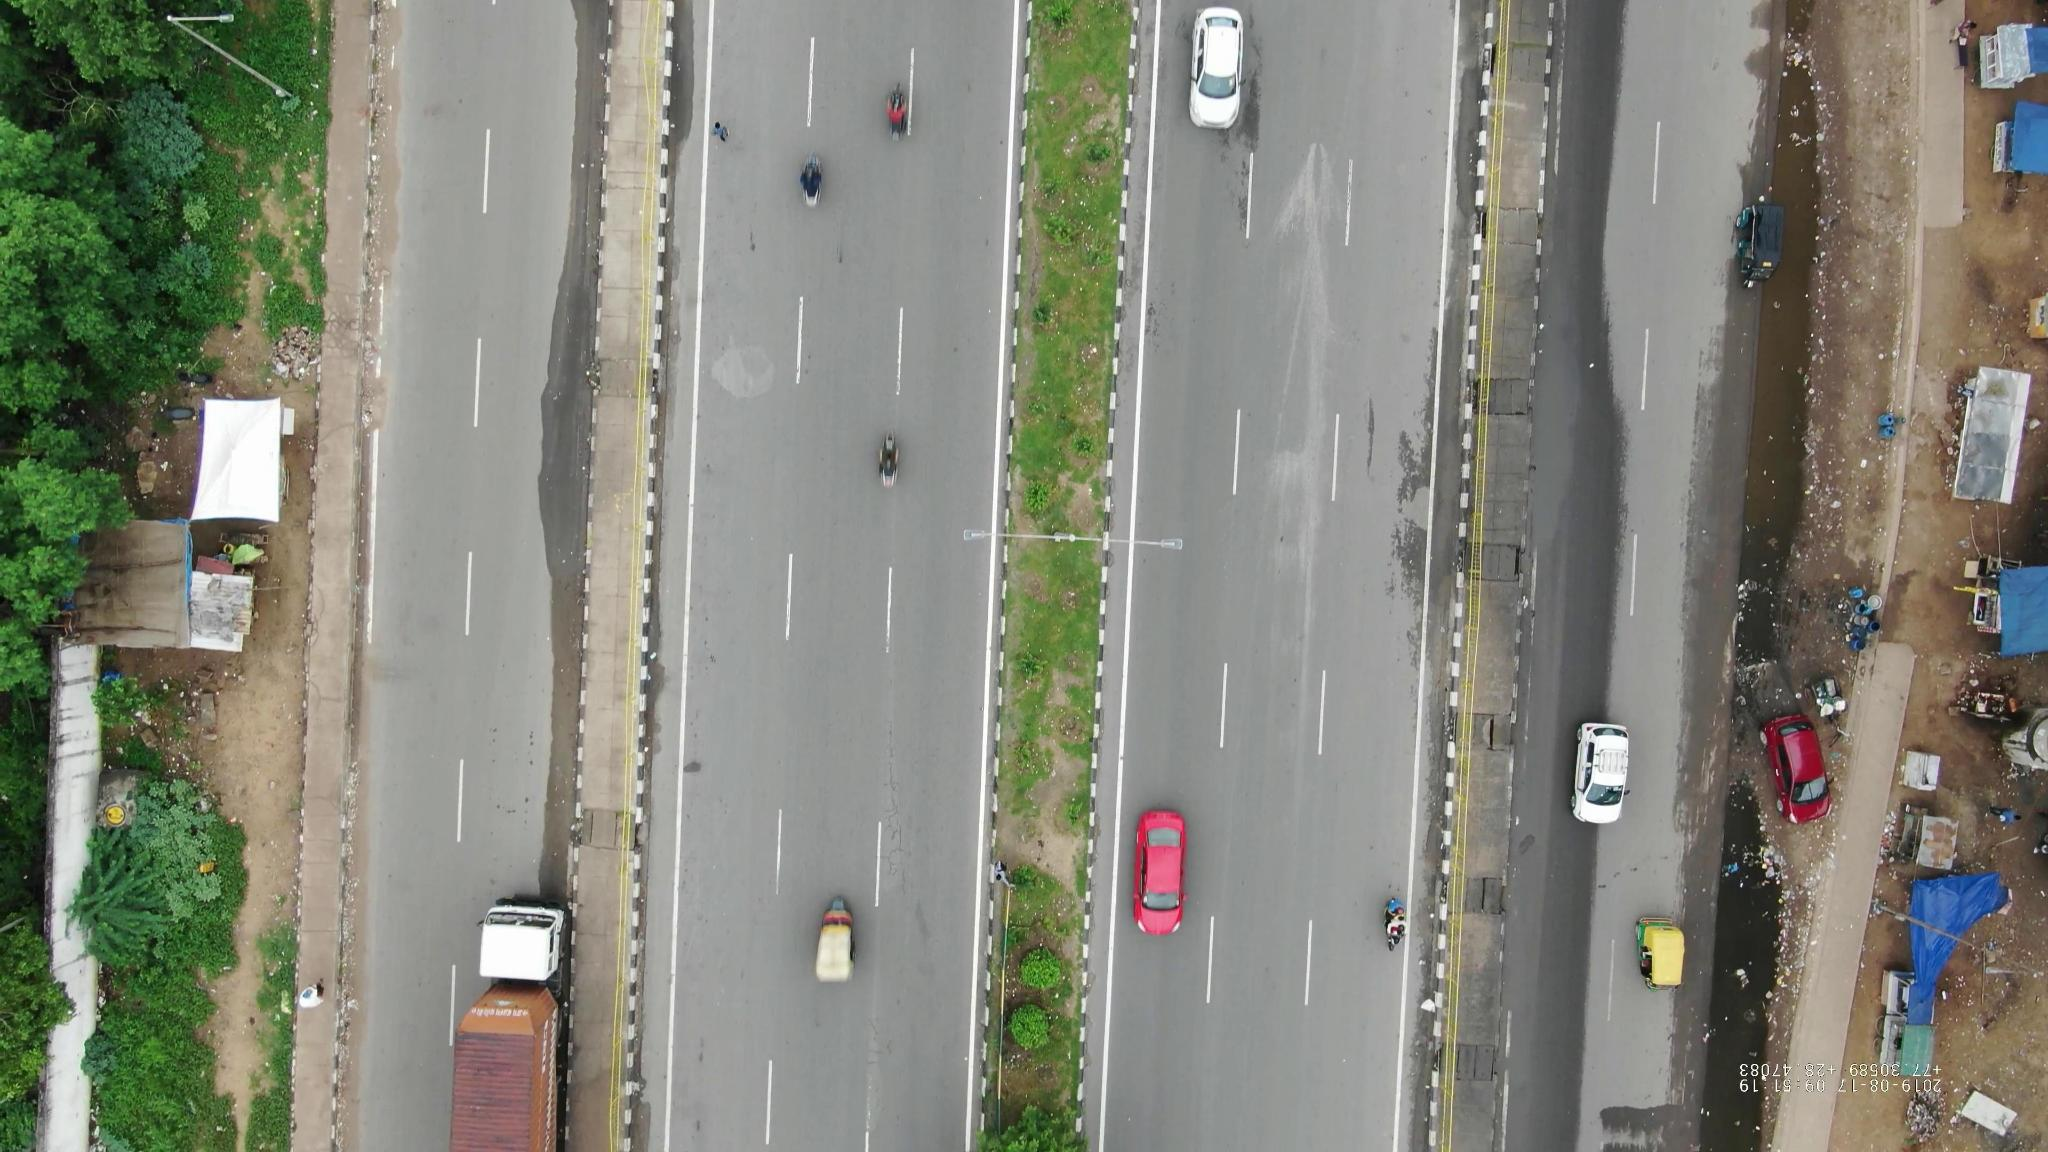Cracks: (875, 736, 933, 903)
Waterlogging: (1737, 421, 1812, 658), (1713, 821, 1791, 999), (1769, 6, 1836, 198), (1726, 298, 1827, 414), (1699, 1004, 1774, 1152)
